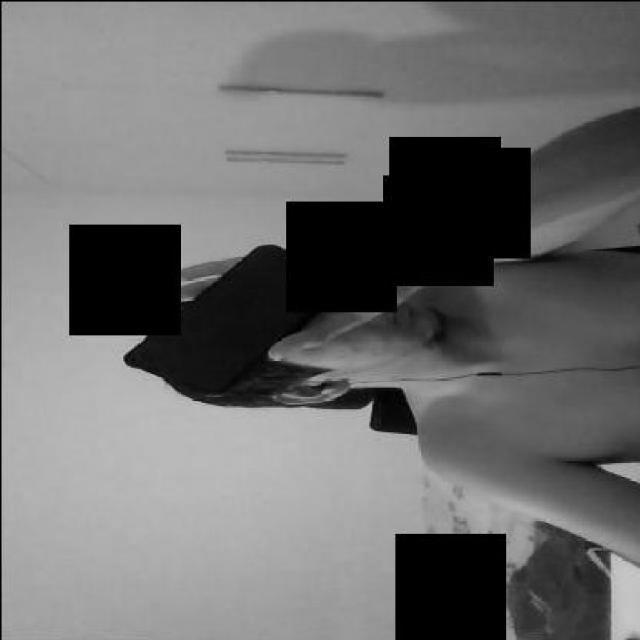fake: (123, 244, 357, 398)
